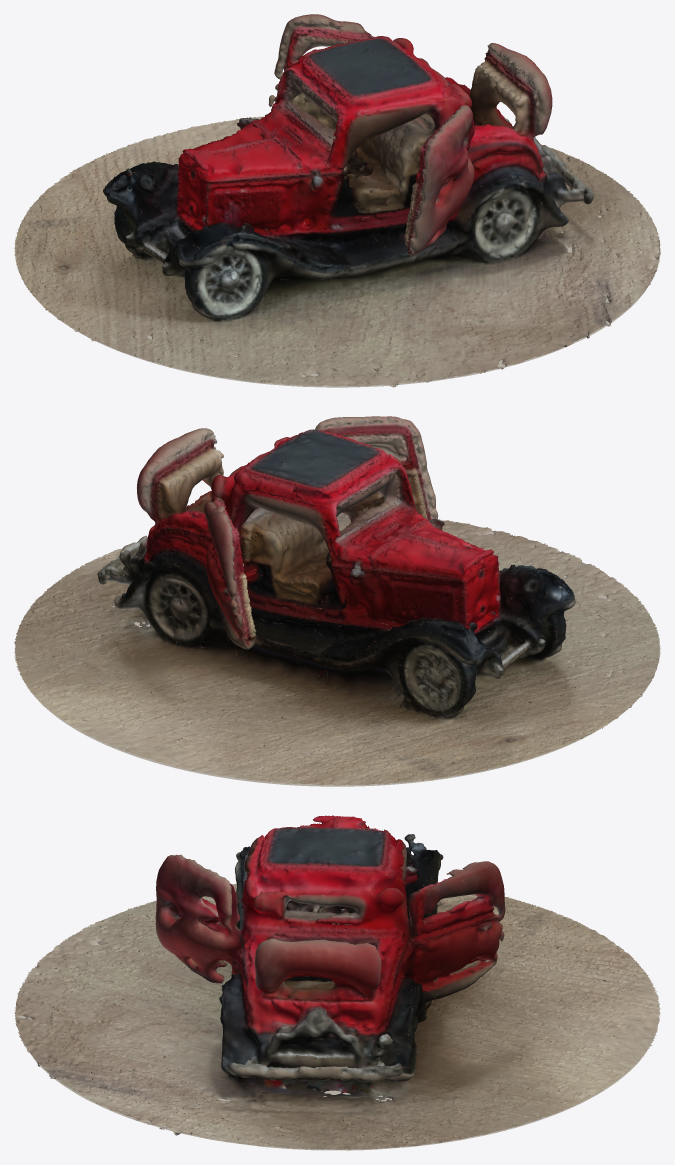
The model's file is carrito.glb.
3 renders of one model, top to bottom at view 1: azimuth 30°, elevation 25°; view 2: azimuth 150°, elevation 25°; view 3: azimuth 270°, elevation 25°, orthographic.
Visible parts, largest first — view 1: objeto, base_rellenada; view 2: objeto, base_rellenada; view 3: objeto, base_rellenada.
Part boxes in pixels (x1,y1,x2,y2): objeto: (14,14,660,387); base_rellenada: (31,209,659,387); objeto: (14,416,660,786); base_rellenada: (17,515,647,786); objeto: (14,815,660,1149); base_rellenada: (18,939,655,1150).
Bounding box in the file's own units: 0.1887 × 0.0609 × 0.1889.
Materials: 2 (1 with a texture image).
